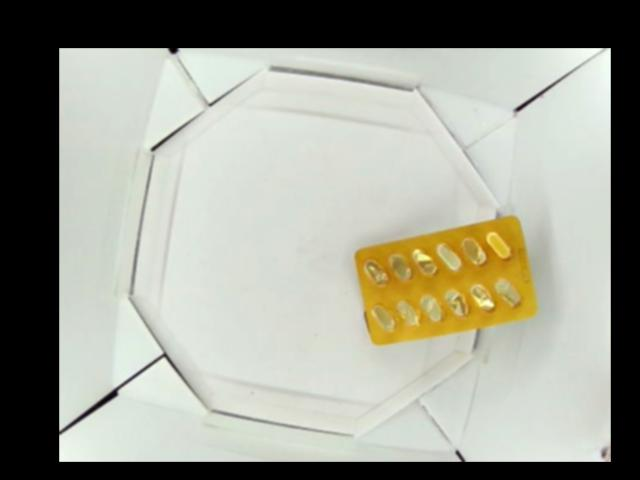Medicine: (353, 214, 541, 346)
